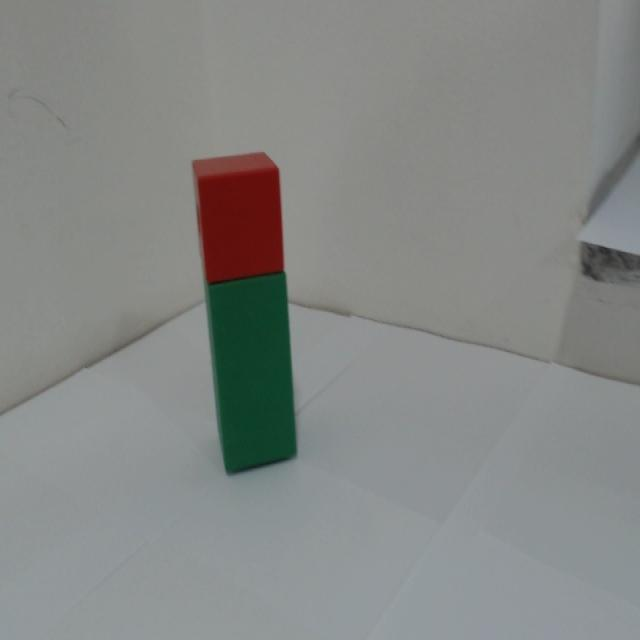cube: (181, 149, 313, 271)
